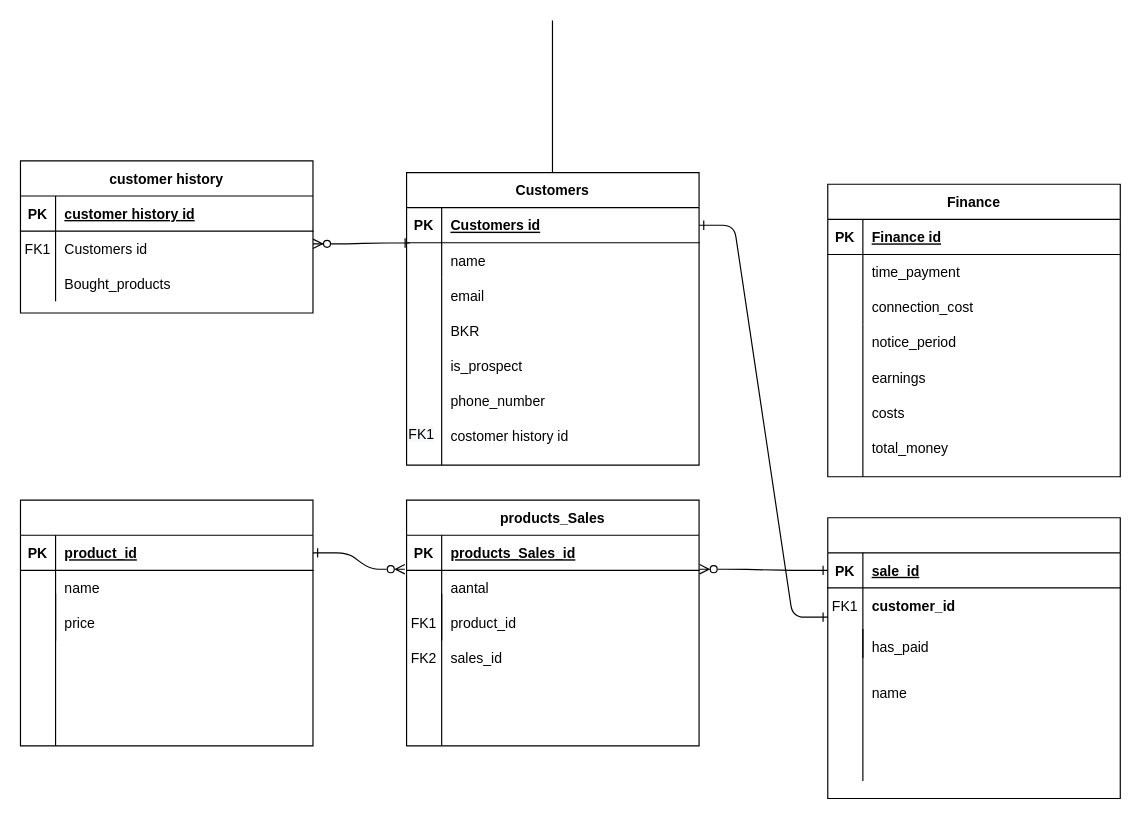
The diagram is 1141 pixels wide and 819 high, and some of its shapes have lost their labels. Here are the shapes that lost their labels. From the top down, the box of each, then its label:
(19, 499, 313, 746): products
(827, 517, 1120, 799): sales
